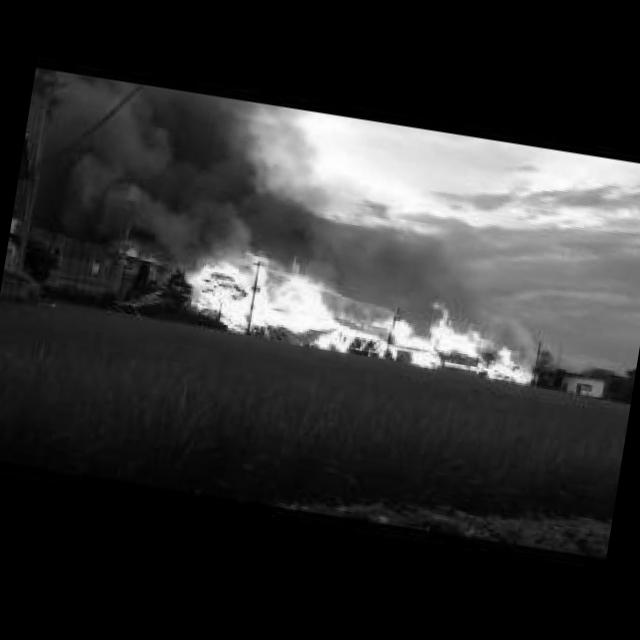fire: (172, 245, 541, 384), (124, 243, 160, 265), (533, 370, 541, 380)
smoke: (60, 74, 362, 272)
